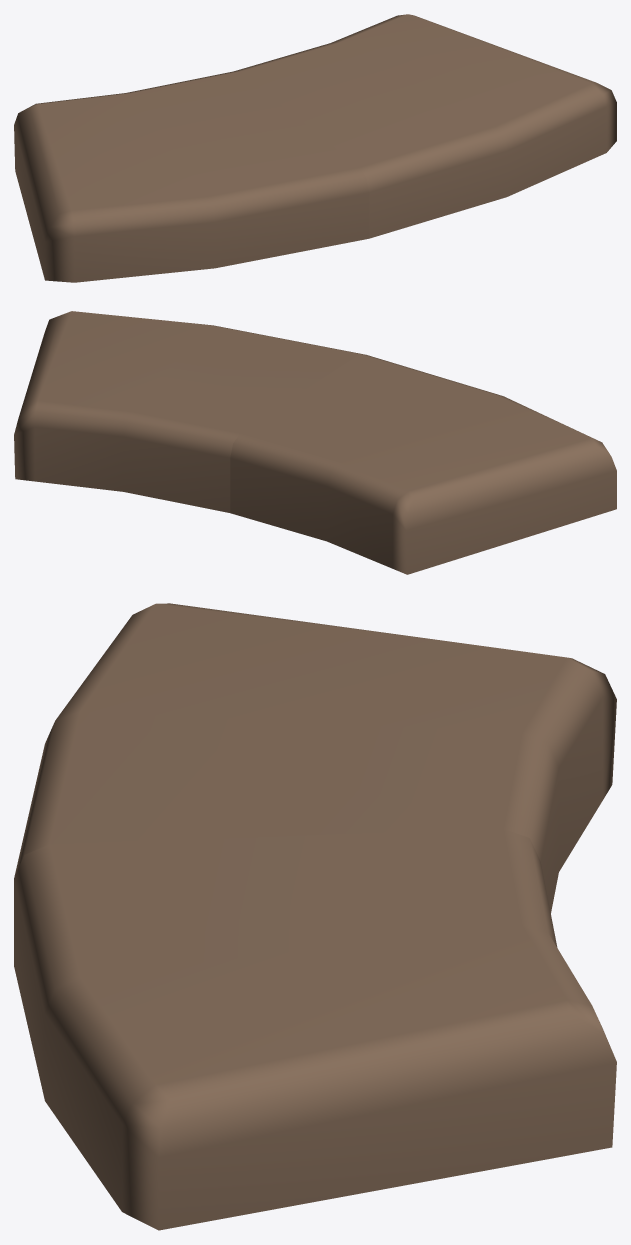
Rendered from Corrupt_Tile_001_LR.fbx.
3 renders of one model, top to bottom at view 1: azimuth 30°, elevation 25°; view 2: azimuth 150°, elevation 25°; view 3: azimuth 270°, elevation 25°, orthographic. The views are drawn at different scales.
Visible parts, largest first — view 1: Corrupt_Tile_R, Corrupt_Tile_L; view 2: Corrupt_Tile_R, Corrupt_Tile_L; view 3: Corrupt_Tile_L, Corrupt_Tile_R.
Boxes of the visible parts, <box> form: Corrupt_Tile_R: <box>14,71,369,282</box>; Corrupt_Tile_L: <box>233,14,616,238</box>; Corrupt_Tile_R: <box>230,354,616,574</box>; Corrupt_Tile_L: <box>14,311,364,512</box>; Corrupt_Tile_L: <box>14,828,616,1230</box>; Corrupt_Tile_R: <box>14,603,616,913</box>.
Bounding box in the file's own units: 248 × 30.06 × 120.
